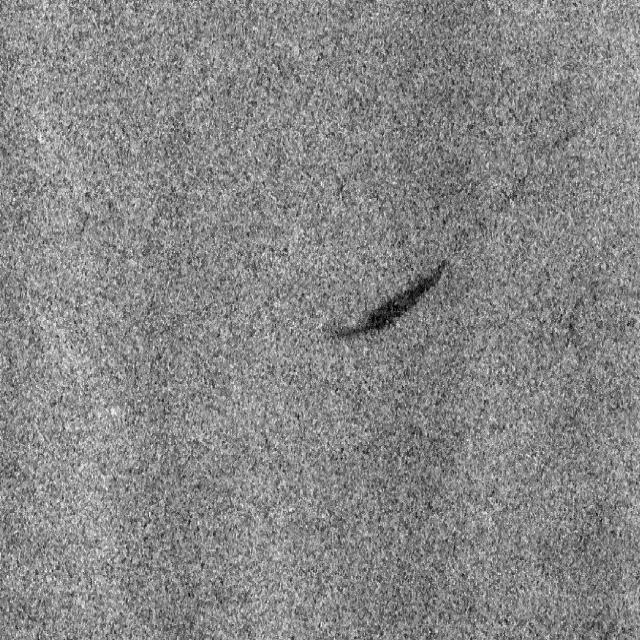oil-spill: (323, 257, 455, 353)
